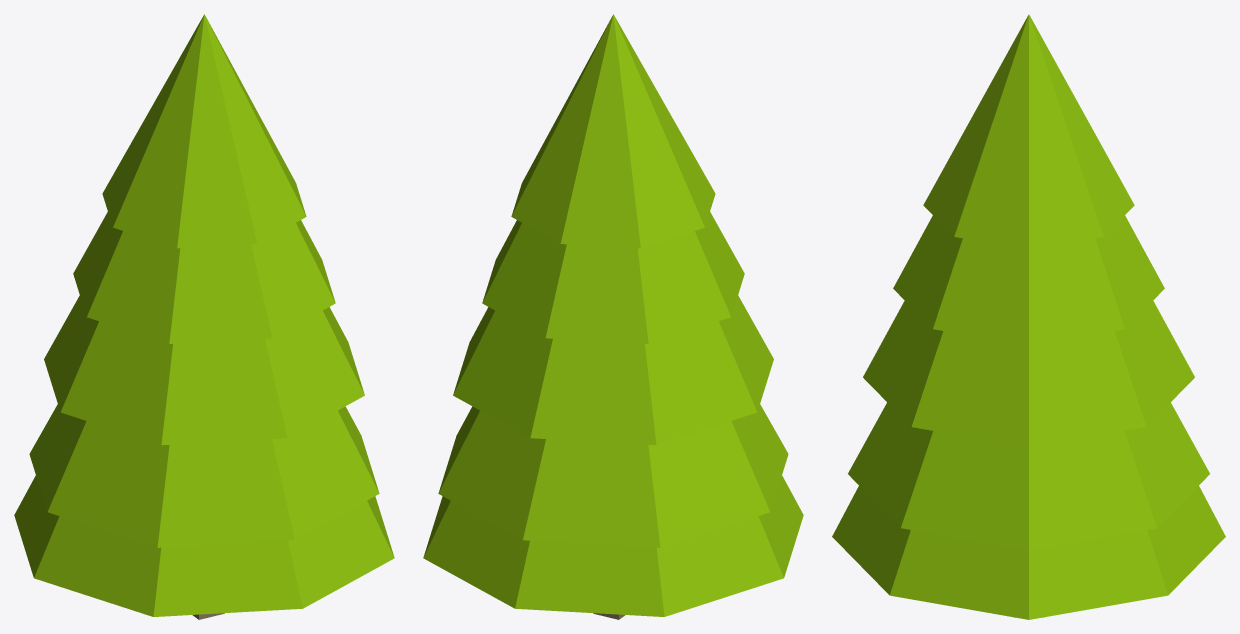
Rendered from pine_3.fbx.
3 renders of one model, left to right at view 1: azimuth 30°, elevation 25°; view 2: azimuth 150°, elevation 25°; view 3: azimuth 270°, elevation 25°, orthographic.
Parts seen in each view (by area): view 1: pine_3; view 2: pine_3; view 3: pine_3.
Boxes of the visible parts, bbox=[...] form: pine_3: bbox=[14, 14, 394, 619]; pine_3: bbox=[423, 14, 803, 619]; pine_3: bbox=[832, 14, 1225, 619].
Size of the model in its own units: 159 by 266 by 159.
